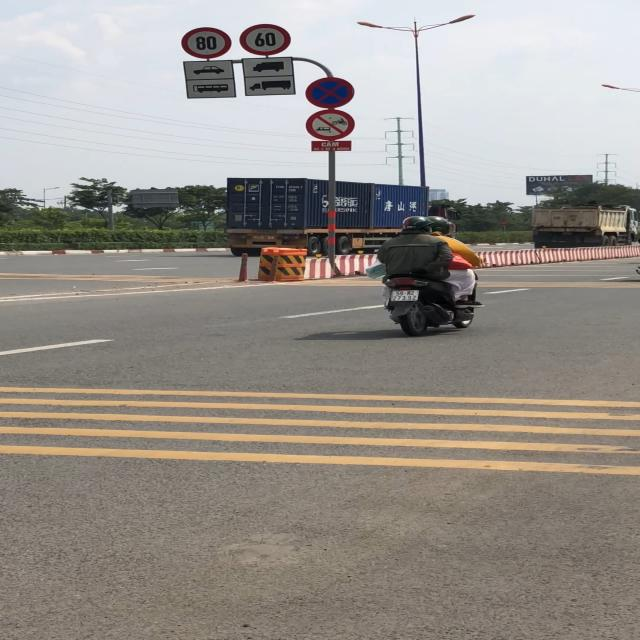Bien bao cam dung xe va do xe: (305, 76, 356, 110)
Bien bao toc do toi da cho phep: (178, 25, 235, 61), (238, 22, 295, 55)
